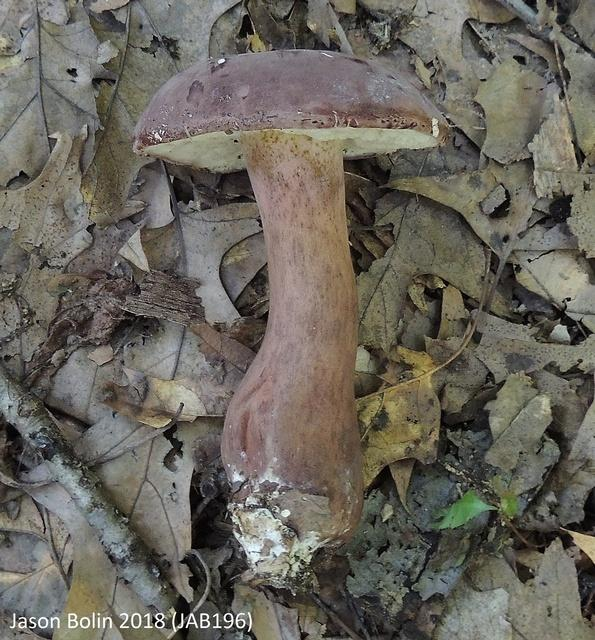poisonous_mushroom: (130, 47, 450, 554)
